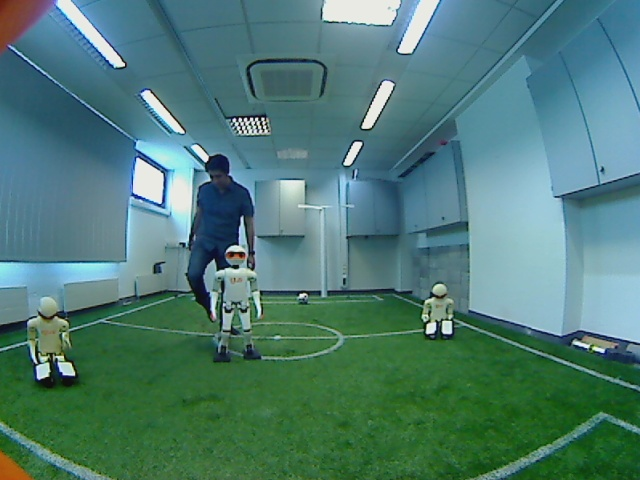ball: (293, 289, 315, 309)
robot: (203, 243, 267, 367), (19, 291, 88, 387), (413, 281, 461, 347)
